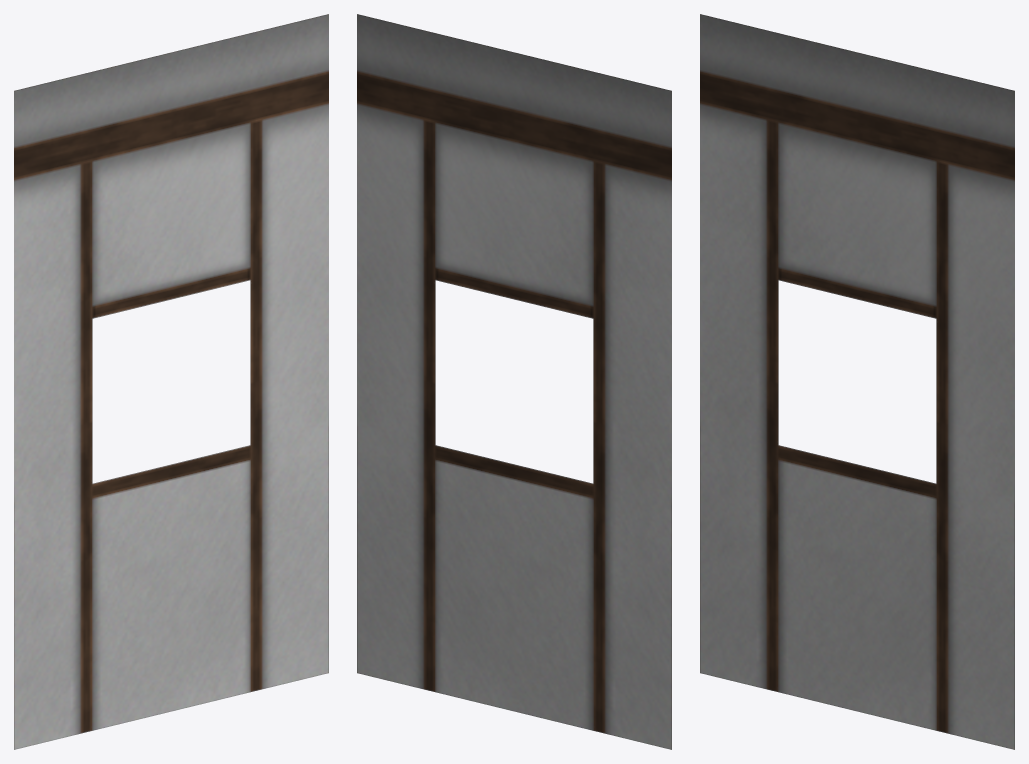
The model's file is house_wall_b_window.fbx.
3 views of the same model, side by side, from view 1: azimuth 30°, elevation 25°; view 2: azimuth 150°, elevation 25°; view 3: azimuth 330°, elevation 25° (orthographic).
Parts seen in each view (by area): view 1: house_wall_b_window; view 2: house_wall_b_window; view 3: house_wall_b_window.
Part boxes in pixels (box(x1,y1,x2,y2)): house_wall_b_window: box(14, 14, 328, 749); house_wall_b_window: box(357, 14, 671, 749); house_wall_b_window: box(700, 14, 1014, 749).
Bounding box in the file's own units: 200 × 400 × 6.52e-05.
